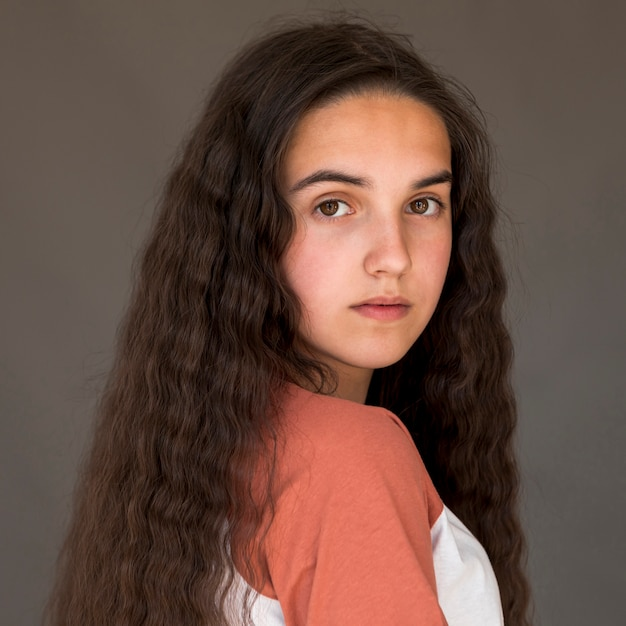teen: (216, 36, 500, 359)
